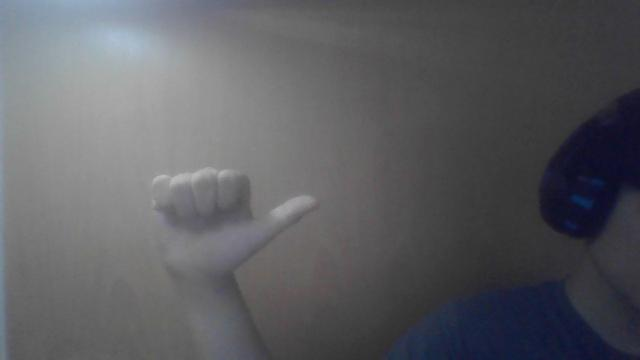left: (141, 163, 327, 279)
